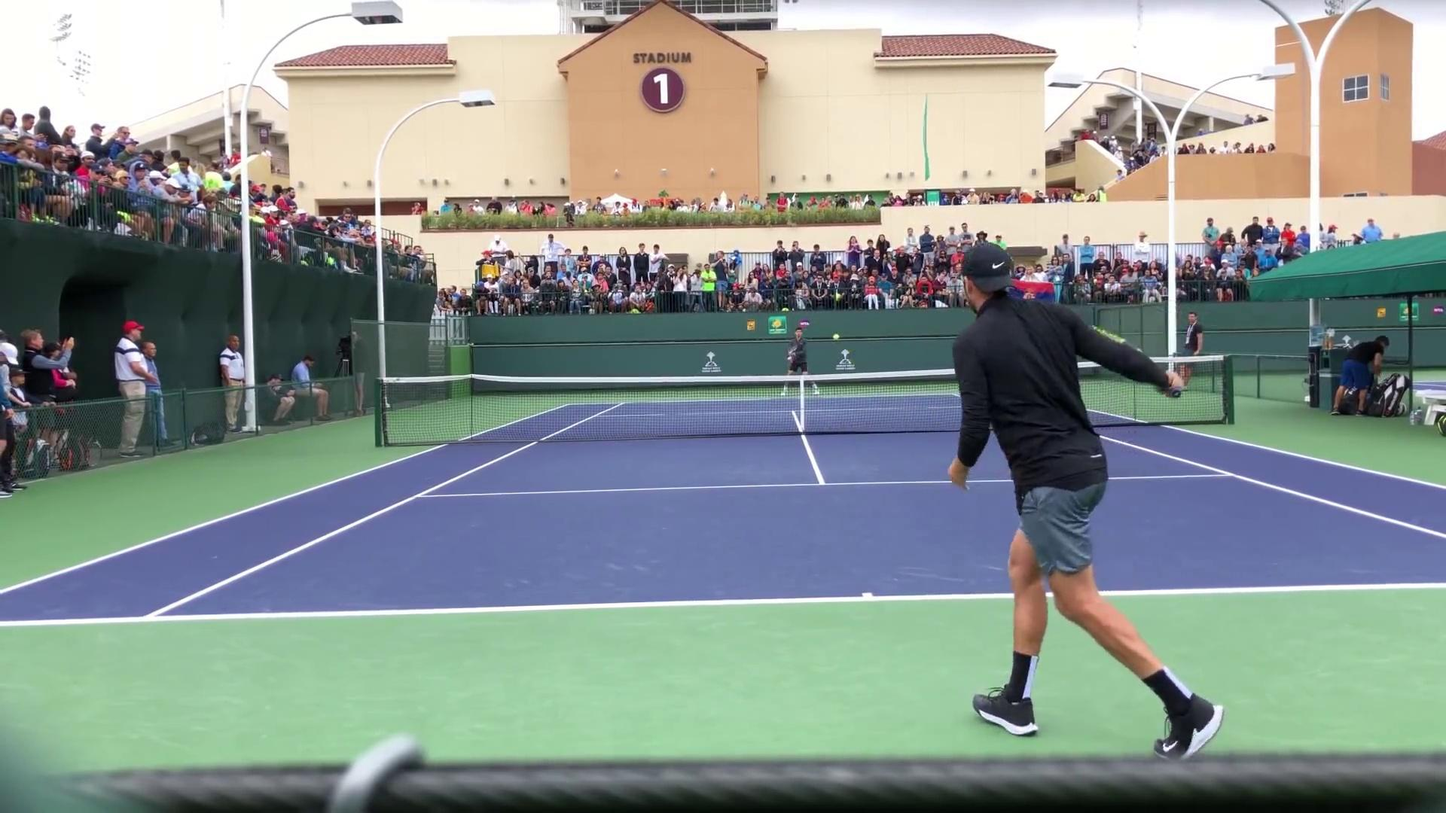ball: (833, 333, 839, 340)
